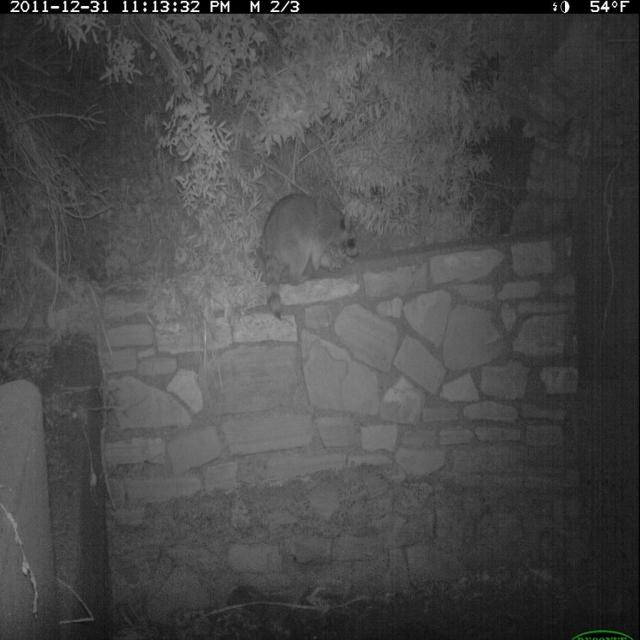raccoon: (260, 190, 363, 322)
